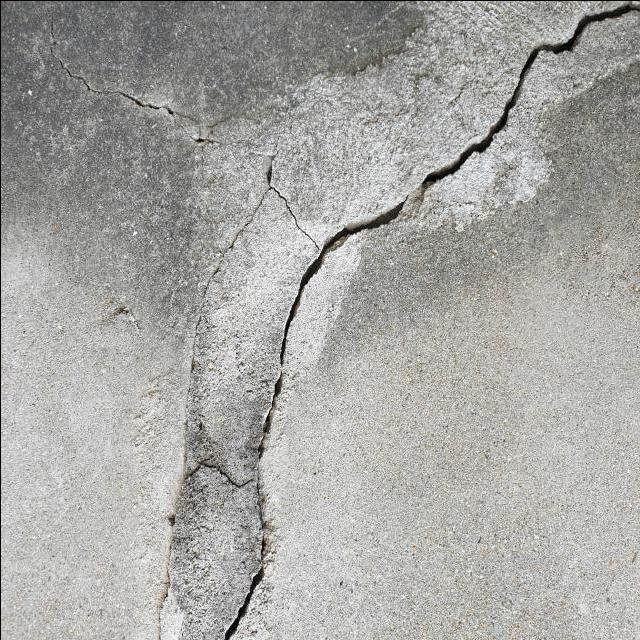SurfaceCrack: (187, 0, 640, 638)
